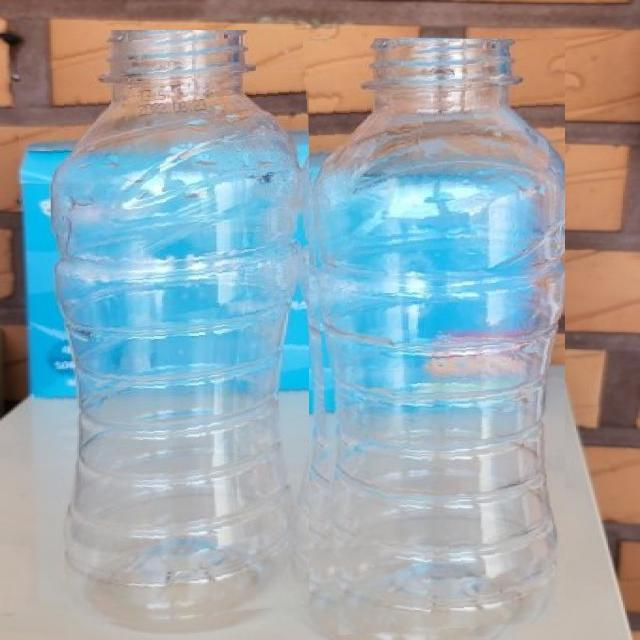plastic bottle: (47, 30, 309, 628), (303, 39, 565, 636)
